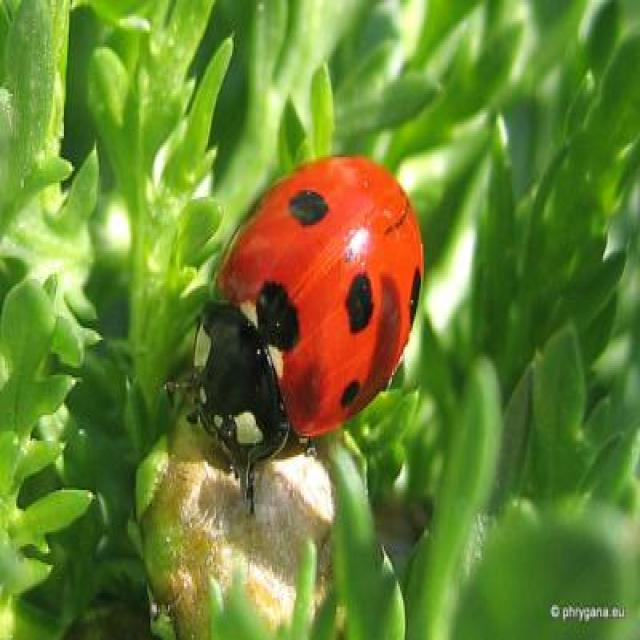body: (192, 153, 422, 456)
insect: (163, 150, 425, 514)
wings: (218, 153, 423, 439)
